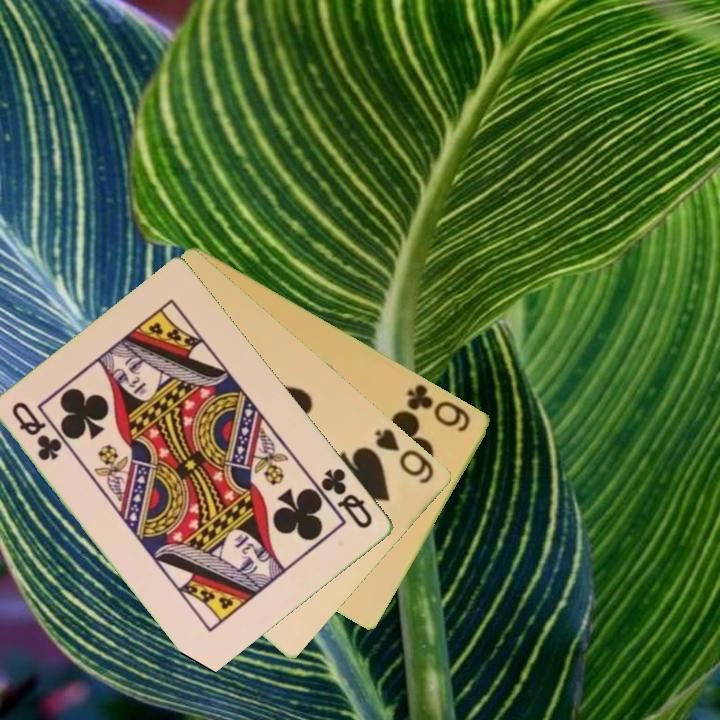6c: (403, 380, 474, 436)
6s: (371, 424, 438, 487)
Qc: (318, 464, 377, 532), (9, 397, 66, 464)
